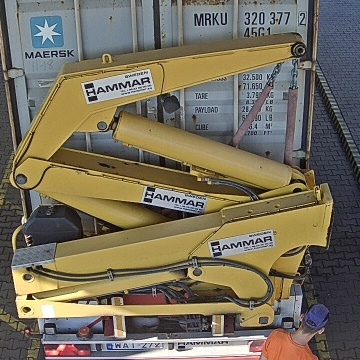serial_id: (194, 11, 307, 26)
